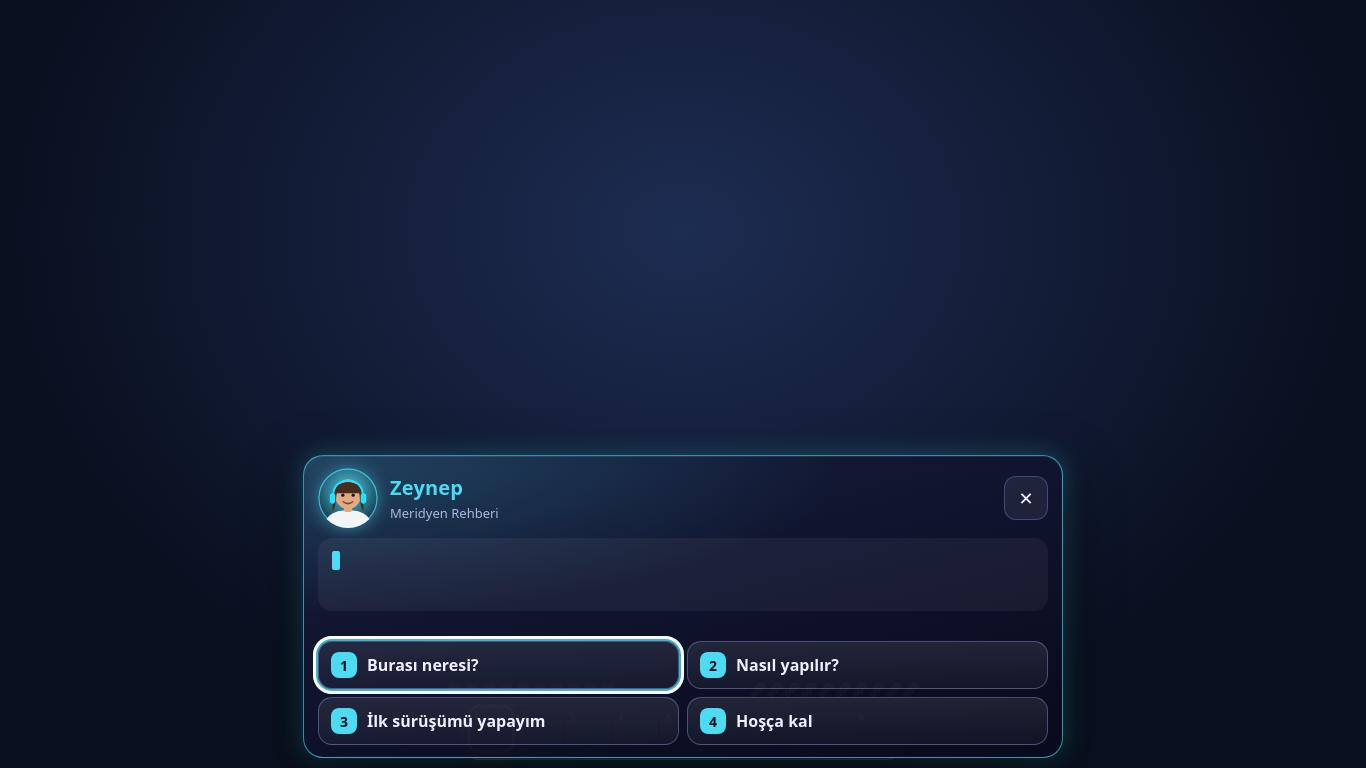
Test case: KesifGameScreen: diyalog ve satıcı panelleri › ui 'dialogue': DialogueSheet motorun getDialogue görünümünü çizer; seçenek chooseDialogue(n)'e gider; ui kapanınca sayfa kalkar
Check: the dialog "Zeynep" is shown, box left=303, top=455, right=1063, bottom=758
Step 1. Click the button with test id "choice-1" → (423, 665), box left=318, top=641, right=679, bottom=689
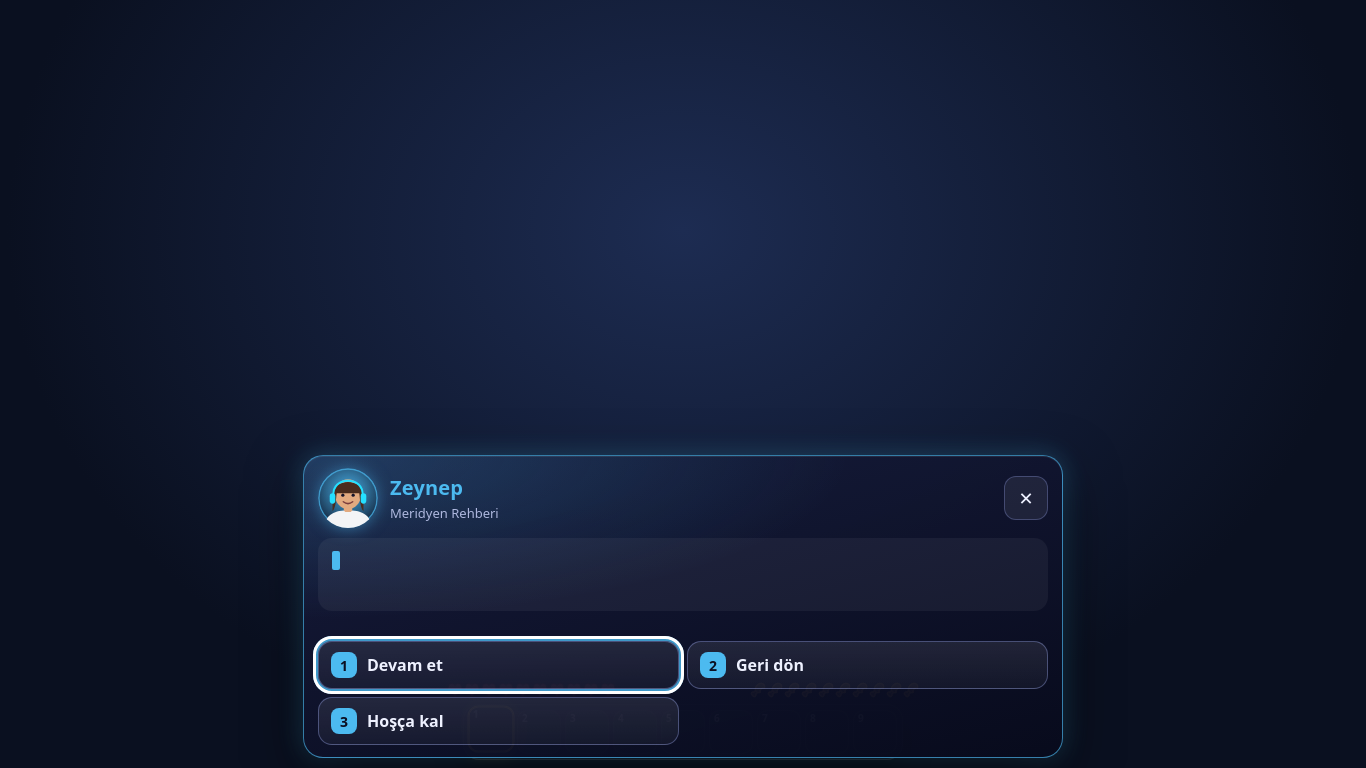
Step 2. Click the button with test id "dialogue-close" → (1026, 498), box left=1004, top=476, right=1048, bottom=520
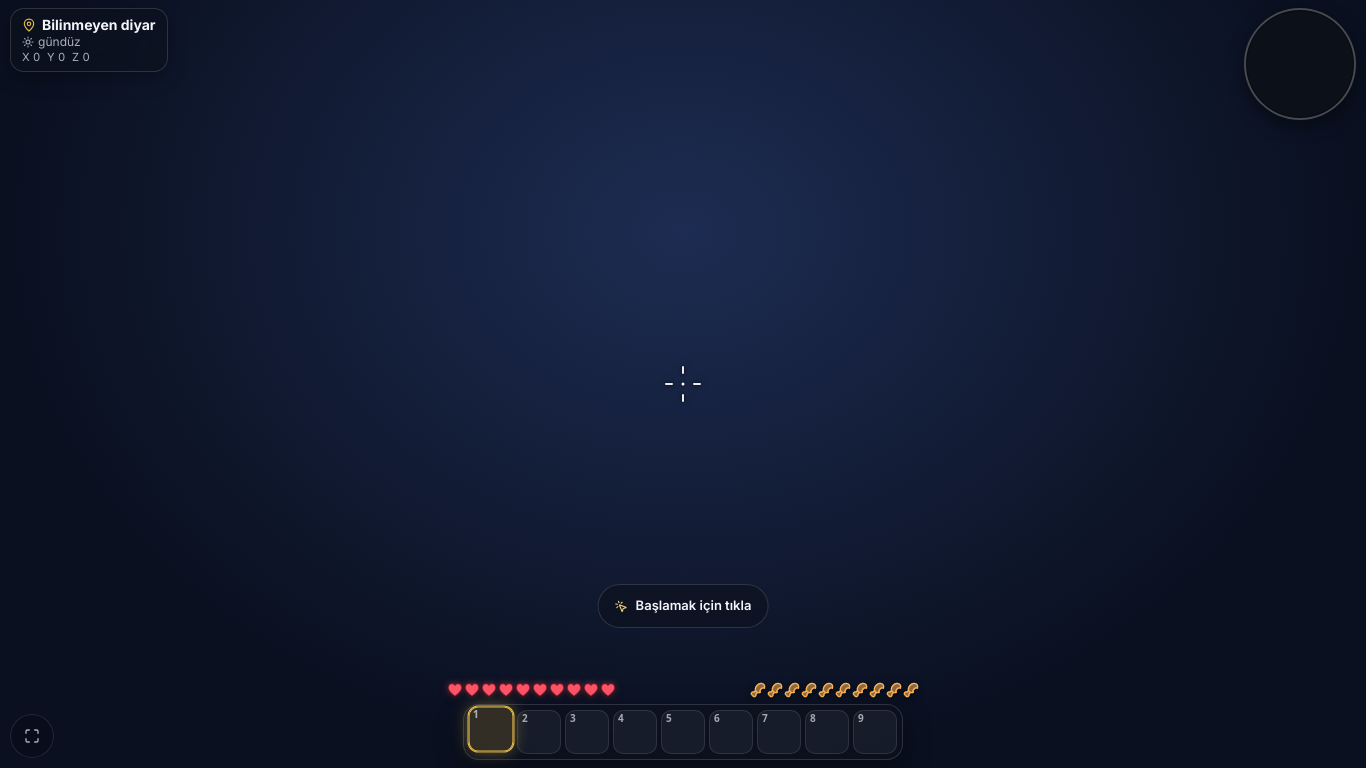
Check: the dialog with test id "dialogue-sheet" is gone
